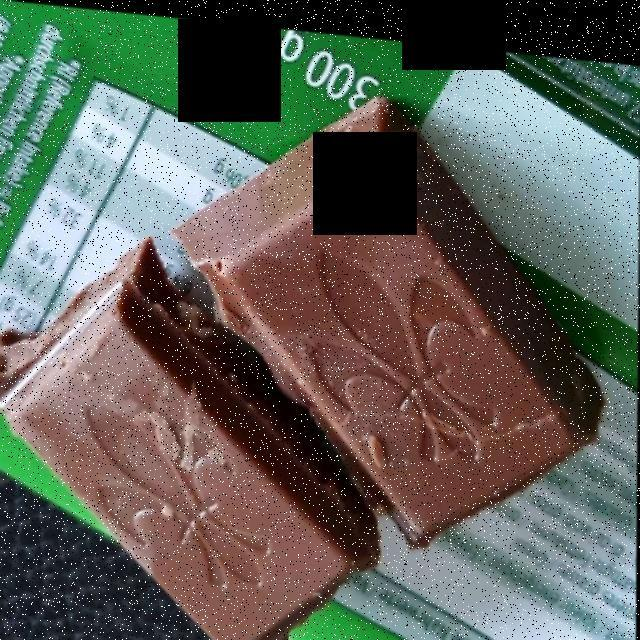chocolate: (10, 90, 584, 640)
